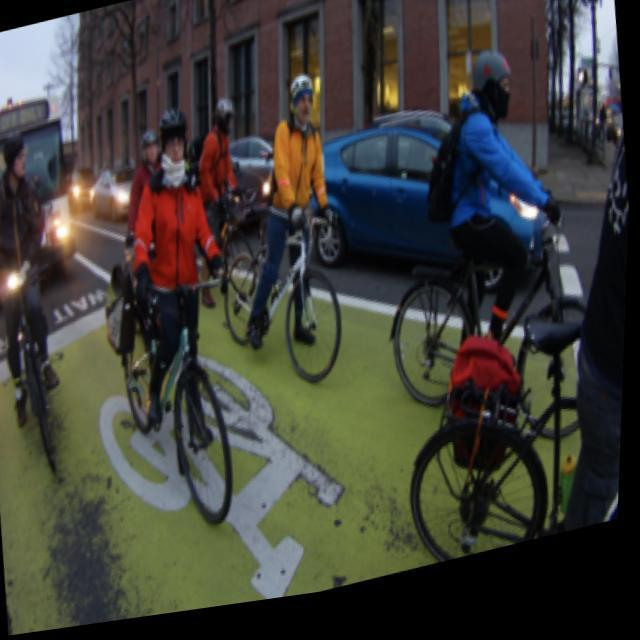Helmet: (466, 39, 518, 122), (148, 103, 192, 182), (277, 66, 321, 132)
